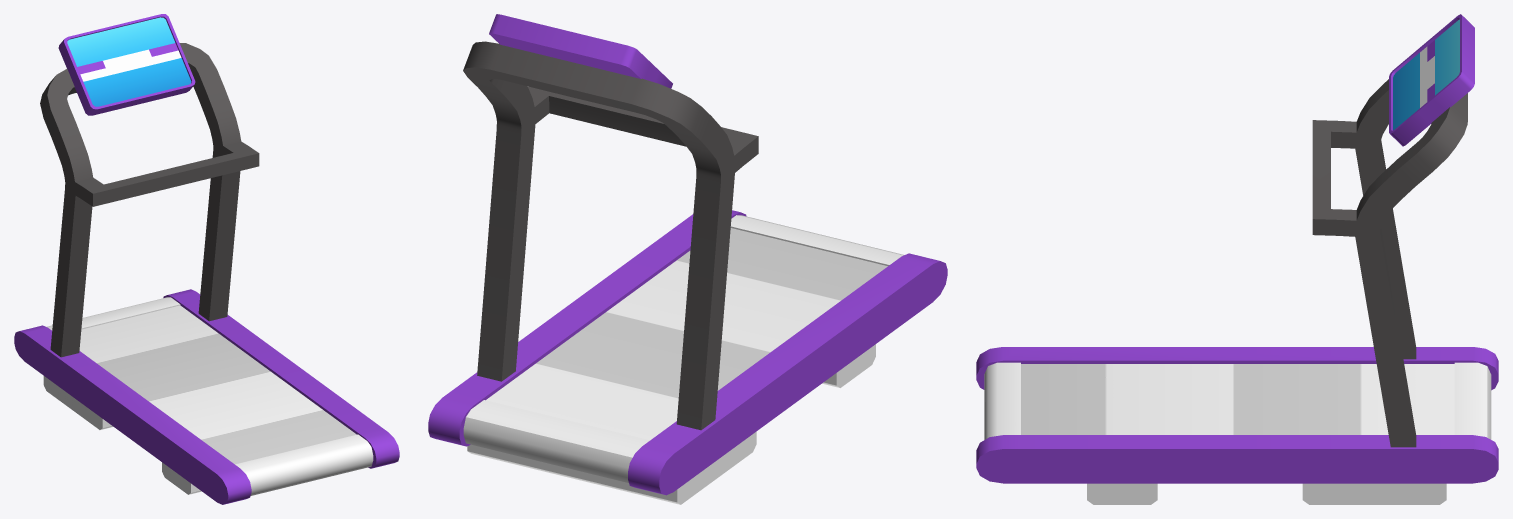
The model's file is Mchn_3.fbx.
3 views of the same model, side by side, from view 1: azimuth 30°, elevation 25°; view 2: azimuth 150°, elevation 25°; view 3: azimuth 270°, elevation 25° (orthographic). The views are drawn at different scales.
Visible parts, largest first — view 1: Machn_3; view 2: Machn_3; view 3: Machn_3.
Boxes of the visible parts, box(x1,y1,x2,y2) form: Machn_3: box(14, 14, 399, 504); Machn_3: box(428, 14, 947, 504); Machn_3: box(976, 14, 1498, 504).
Size of the model in its own units: 84.62 by 160 by 183.
